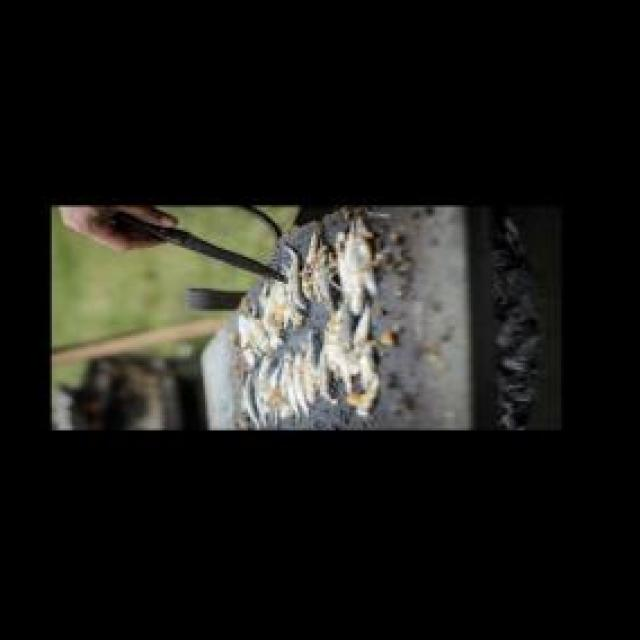knife: (104, 207, 301, 293)
